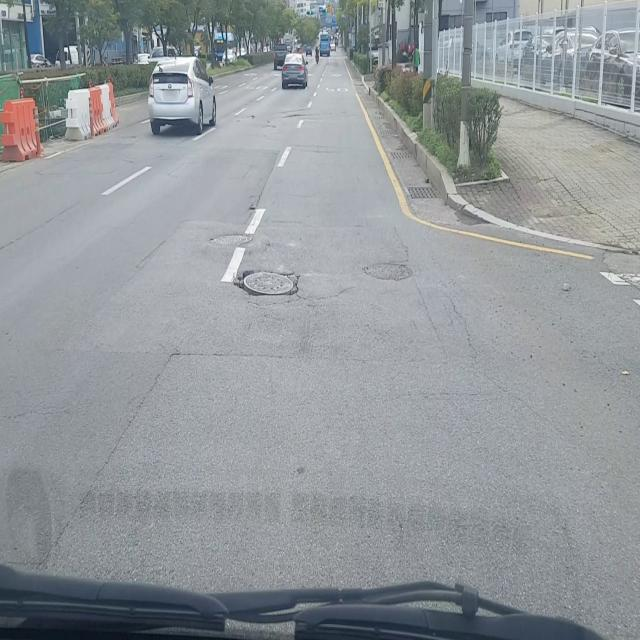Pothole: (234, 268, 300, 298)
